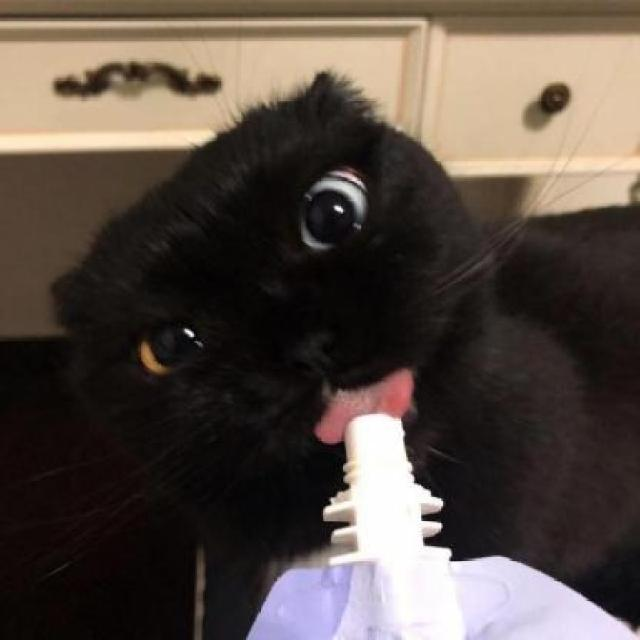cat: (49, 64, 640, 602)
